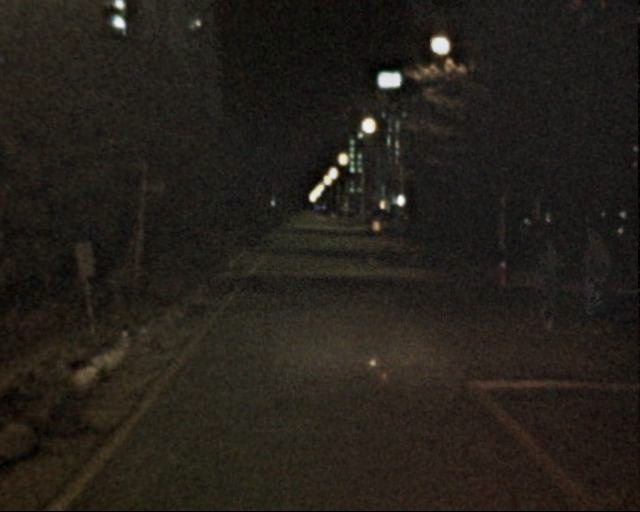person: (574, 221, 616, 328), (529, 236, 568, 329)
